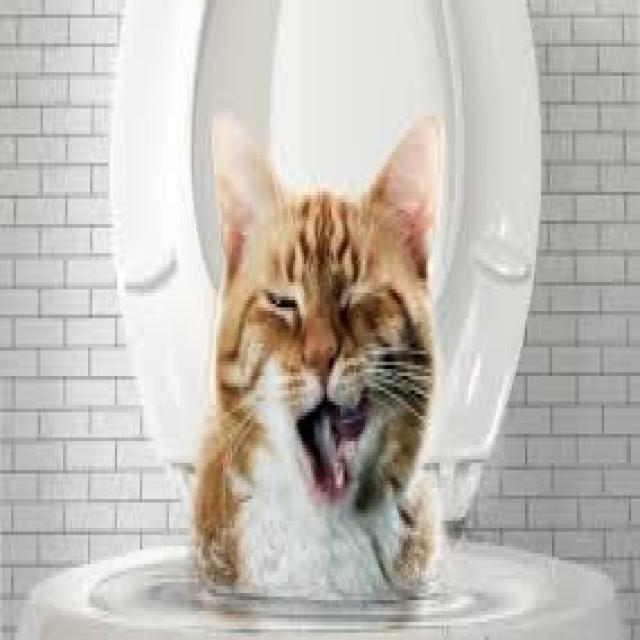cat: (172, 107, 461, 608)
